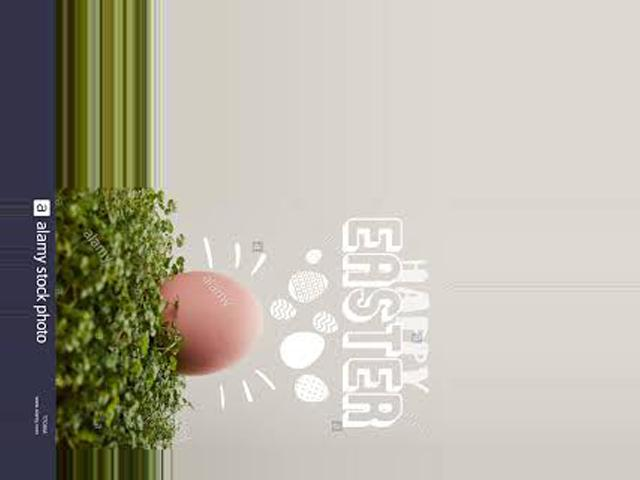egg: (158, 273, 260, 378)
